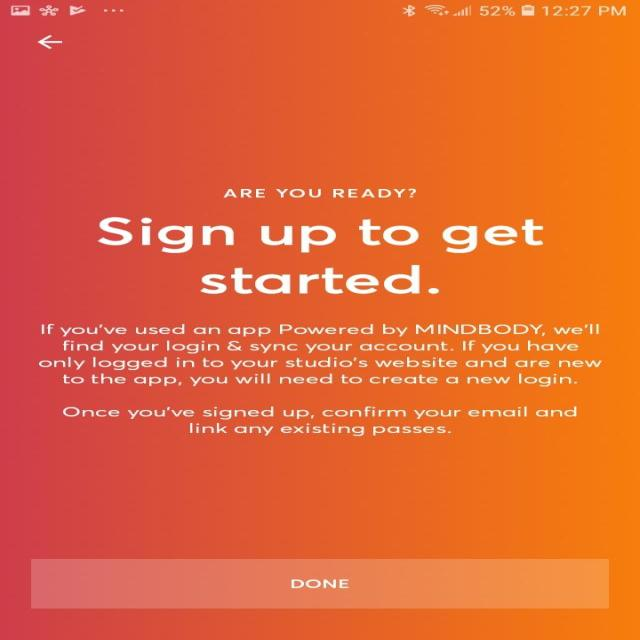Icon: (36, 35, 62, 49)
Text: (38, 323, 602, 387), (96, 217, 543, 295), (62, 405, 576, 436), (223, 188, 415, 198)
TextButton: (30, 558, 609, 608)
